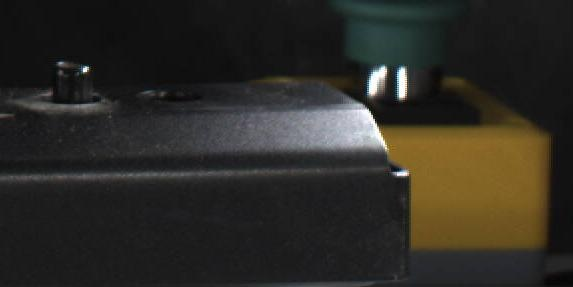screw: (52, 56, 97, 109)
